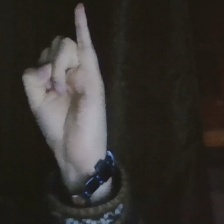I: (17, 1, 116, 151)
